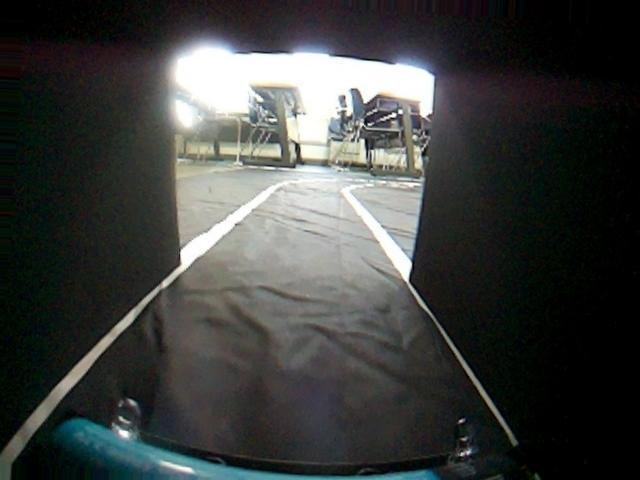straight: (6, 245, 640, 478)
